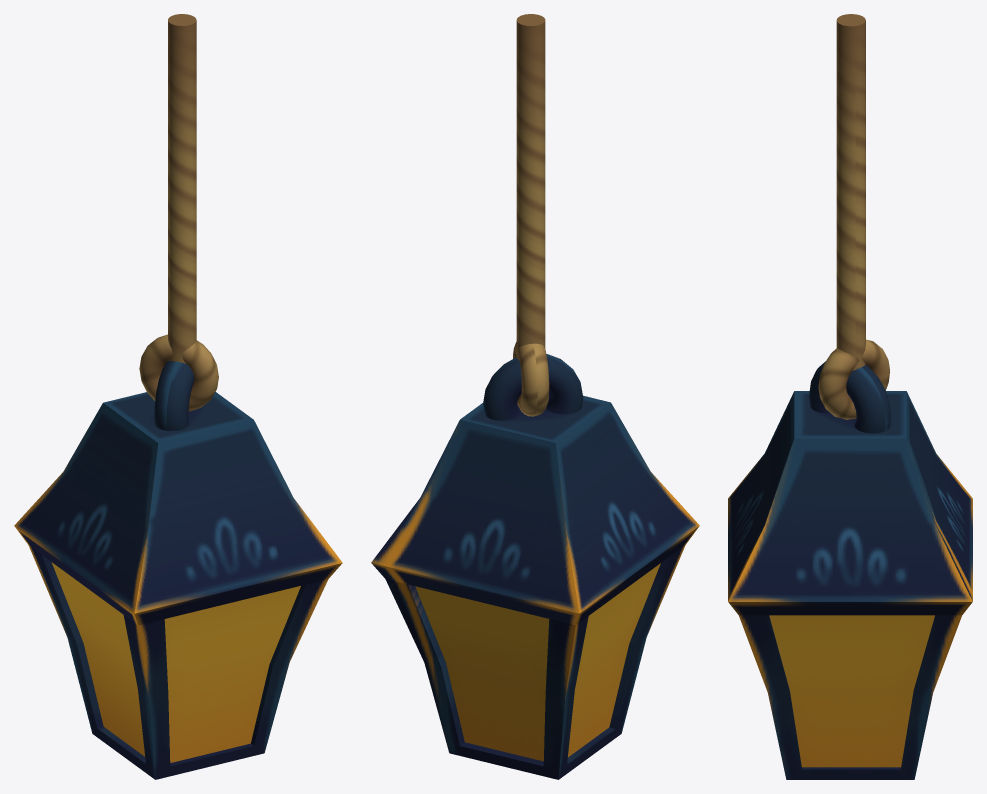
Rendered from MSH_Lantern.fbx.
3 views of the same model, side by side, from view 1: azimuth 30°, elevation 25°; view 2: azimuth 150°, elevation 25°; view 3: azimuth 270°, elevation 25° (orthographic).
Visible parts, largest first — view 1: Lantern; view 2: Lantern; view 3: Lantern.
Part boxes in pixels (box(x1,y1,x2,y2)): Lantern: box(14, 14, 342, 779); Lantern: box(371, 14, 699, 779); Lantern: box(728, 14, 972, 779).
Size of the model in its own units: 0.2492 by 0.8255 by 0.2492.
